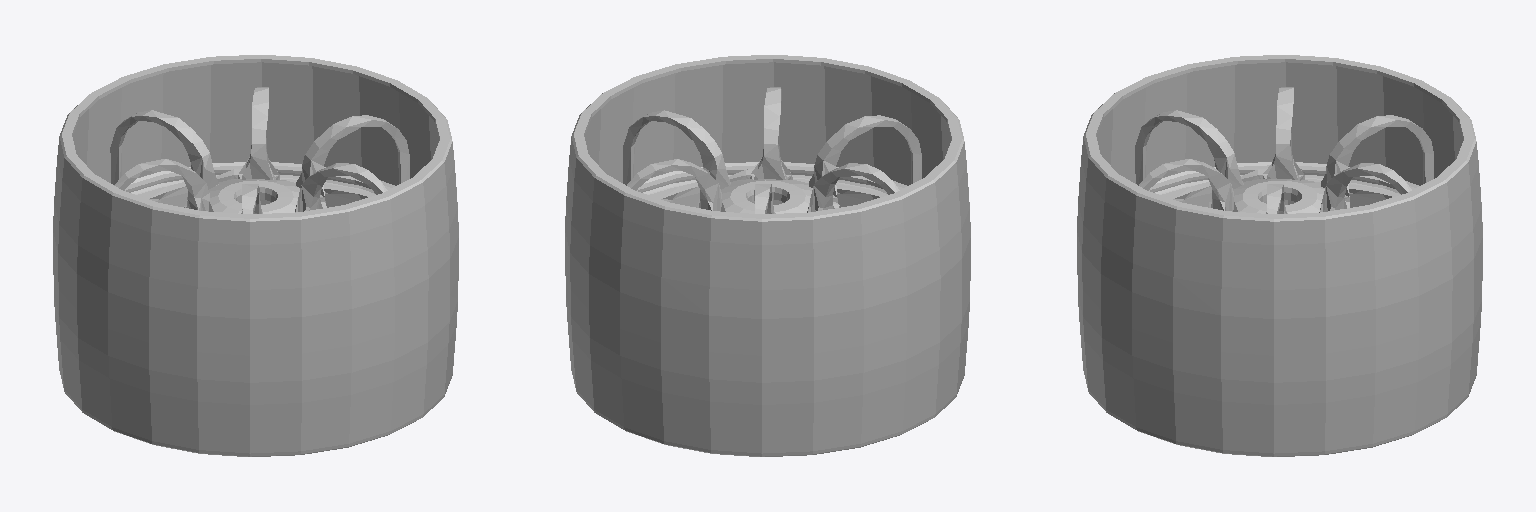
The model's file is Wheel_RightMiddle.obj.
3 renders of one model, left to right at view 1: azimuth 30°, elevation 25°; view 2: azimuth 150°, elevation 25°; view 3: azimuth 270°, elevation 25°, orthographic.
Parts seen in each view (by area): view 1: Wheel_RightMiddle.obj; view 2: Wheel_RightMiddle.obj; view 3: Wheel_RightMiddle.obj.
Part boxes in pixels (x1,y1,x2,y2): Wheel_RightMiddle.obj: (53, 55, 458, 456); Wheel_RightMiddle.obj: (565, 55, 970, 456); Wheel_RightMiddle.obj: (1077, 55, 1482, 456).
Size of the model in its own units: 0.5096 by 0.3306 by 0.5096.